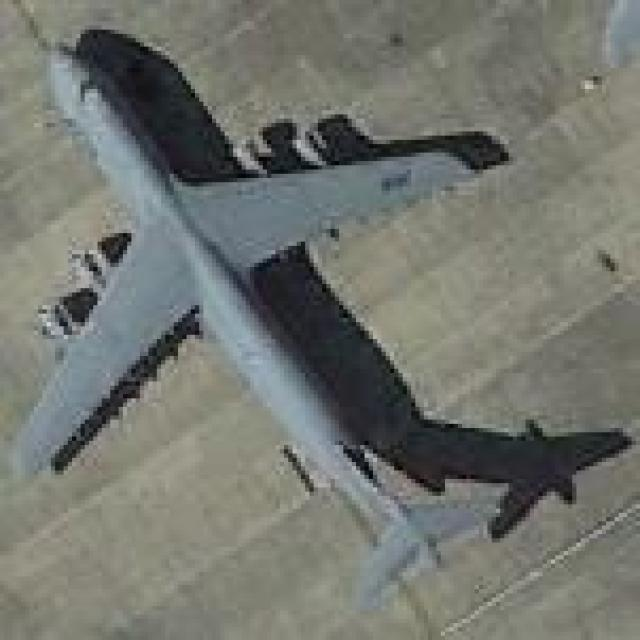C-5_TopDown: (16, 24, 634, 606)
